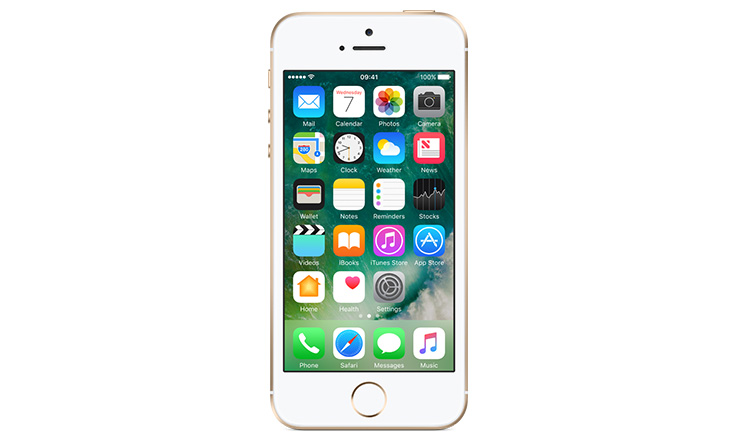mobile: (265, 1, 483, 424)
